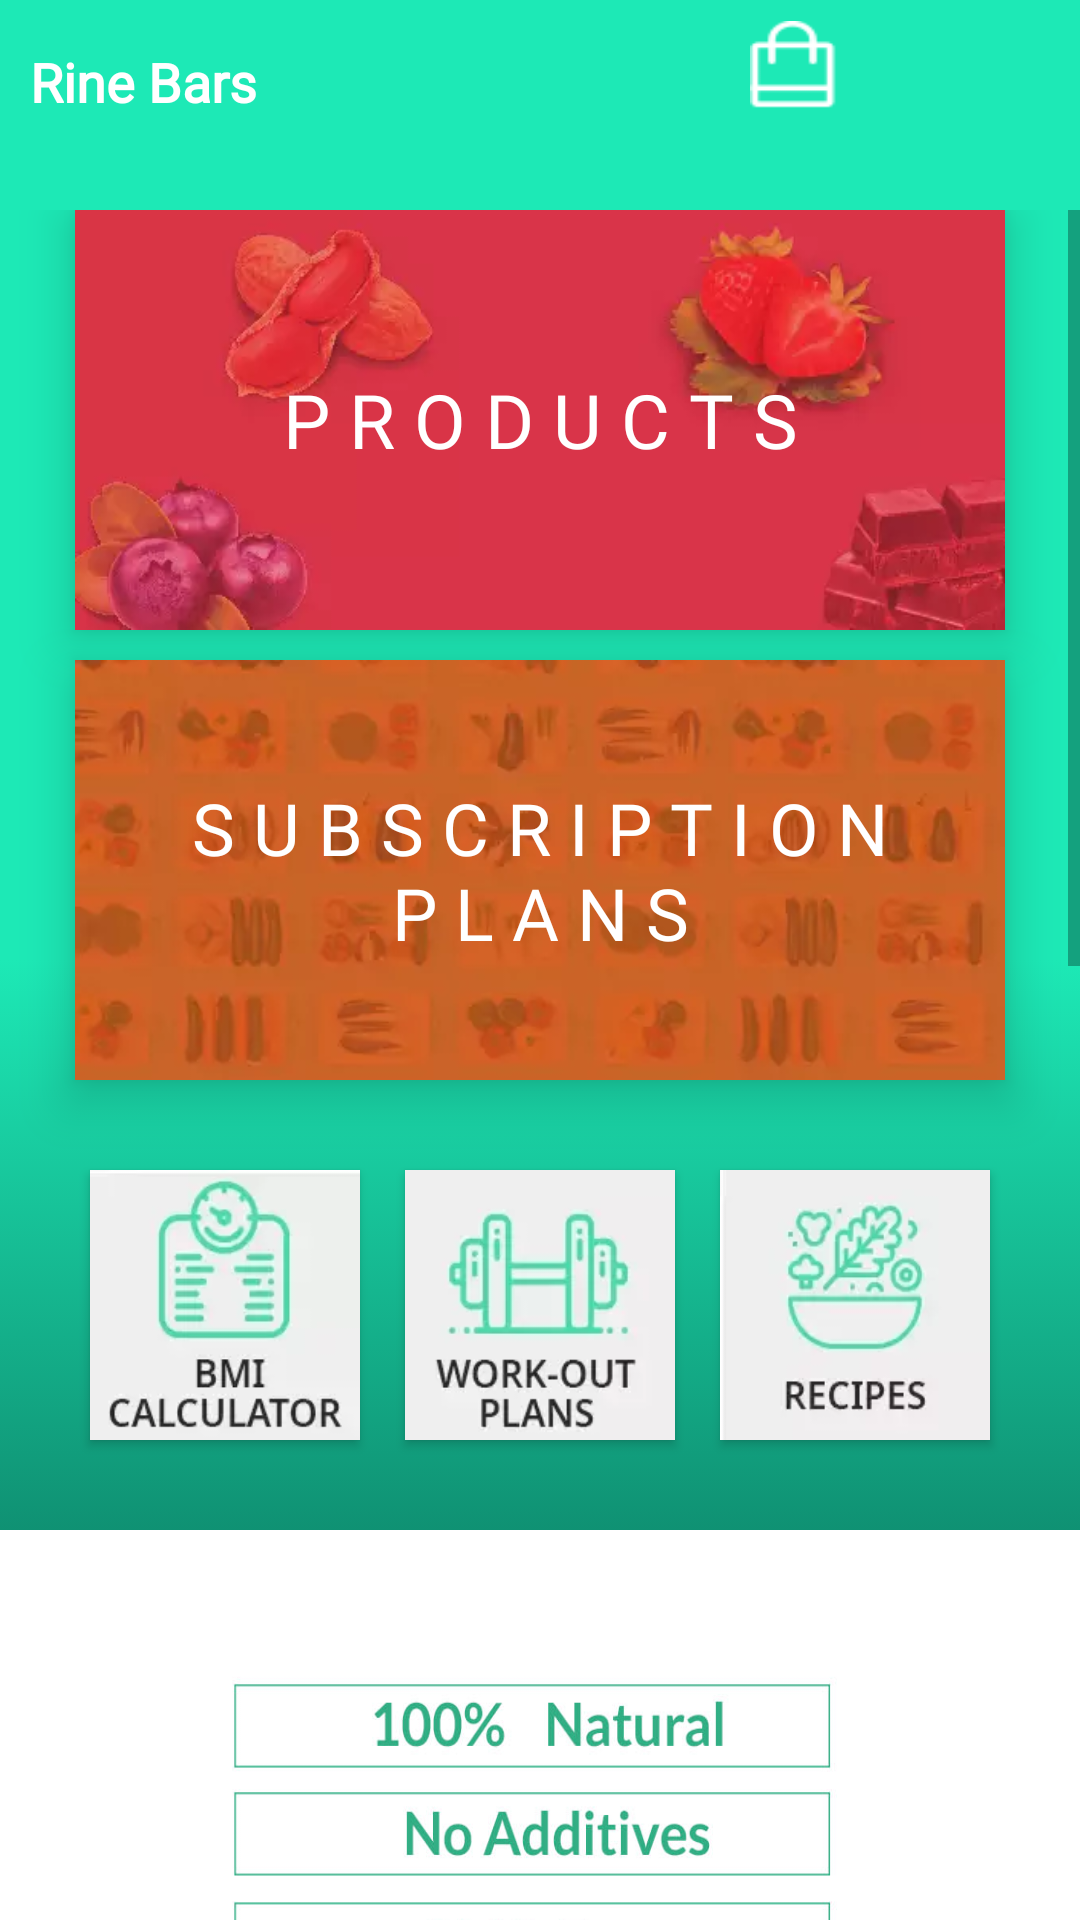

Icons on this 1080px×1920px Android screen, each with its box as bbox=[x1, y1, x2, y2]:
storeicon: bbox=[750, 21, 836, 108]
